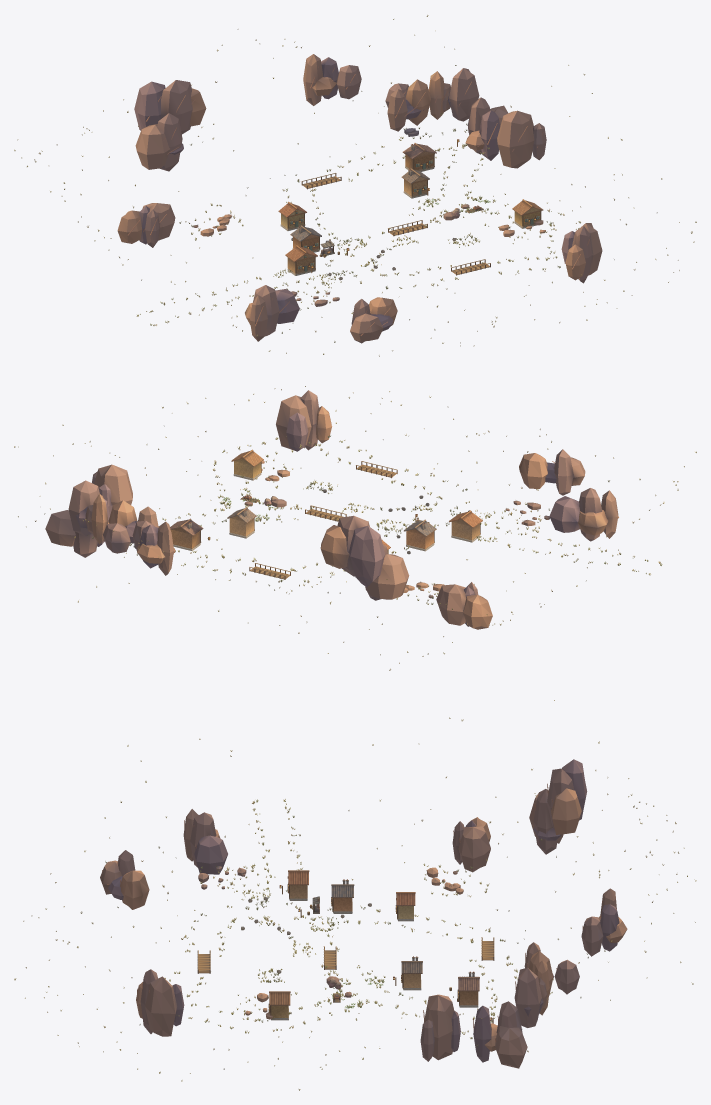
Rendered from district_copper.glb.
The picture shows the model from 3 angles, top to bottom: view 1: azimuth 30°, elevation 25°; view 2: azimuth 150°, elevation 25°; view 3: azimuth 270°, elevation 25°; orthographic projection. The views are drawn at different scales.
Parts seen in each view (by area): view 1: copper · 1,0, copper · 0,1, copper · -2,1, copper · 1,1, copper · -2,-2, copper · -1,-1, copper · -2,0, copper · 0,0, copper · -1,1, copper · 0,-1, copper · 0,-2, copper · -1,-2 (+3 smaller); view 2: copper · 1,1, copper · -2,1, copper · -2,-1, copper · 0,1, copper · -1,-1, copper · -2,0, copper · 0,0, copper · 0,-1, copper · -1,1, copper · 0,-2, copper · -1,-2, copper · 1,0 (+3 smaller); view 3: copper · 1,0, copper · 1,1, copper · -1,1, copper · -1,-1, copper · 1,-2, copper · 0,1, copper · 0,0, copper · -1,-2, copper · -2,0, copper · 0,-1, copper · -2,-1, copper · -2,-2 (+3 smaller).
Part boxes in pixels (box(x1,y1,x2,y2)): copper · 1,0: box(435, 86, 570, 196); copper · 0,1: box(273, 41, 417, 171); copper · -2,1: box(21, 81, 181, 201); copper · 1,1: box(369, 15, 511, 138); copper · -2,-2: box(232, 285, 374, 354); copper · -1,-1: box(280, 225, 430, 300); copper · -2,0: box(81, 191, 222, 263); copper · 0,0: box(302, 143, 482, 215); copper · -1,1: box(163, 29, 296, 188); copper · 0,-1: box(384, 199, 550, 274); copper · 0,-2: box(455, 226, 597, 317); copper · -1,-2: box(326, 278, 496, 351); copper · 1,1: box(18, 480, 137, 557); copper · -2,1: box(330, 522, 494, 656); copper · -2,-1: box(466, 488, 620, 564); copper · 0,1: box(111, 506, 245, 580); copper · -1,-1: box(361, 483, 528, 551); copper · -2,0: box(416, 581, 544, 629); copper · 0,0: box(170, 501, 298, 576); copper · 0,-1: box(222, 450, 396, 521); copper · -1,1: box(216, 515, 369, 622); copper · 0,-2: box(293, 390, 466, 473); copper · -1,-2: box(415, 430, 595, 504); copper · 1,0: box(53, 445, 211, 555); copper · 1,0: box(355, 994, 509, 1066); copper · 1,1: box(508, 940, 647, 1068); copper · -1,1: box(508, 768, 657, 943); copper · -1,-1: box(203, 870, 354, 945); copper · 1,-2: box(57, 969, 192, 1073); copper · 0,1: box(506, 868, 657, 979); copper · 0,0: box(355, 937, 506, 1008); copper · -1,-2: box(55, 850, 203, 947); copper · -2,0: box(376, 796, 503, 882); copper · 0,-1: box(198, 943, 355, 1010); copper · -2,-1: box(196, 812, 353, 881); copper · -2,-2: box(84, 781, 209, 880).
Size of the model in its own units: 111 by 25.48 by 108.
4 materials, 3 textured.
